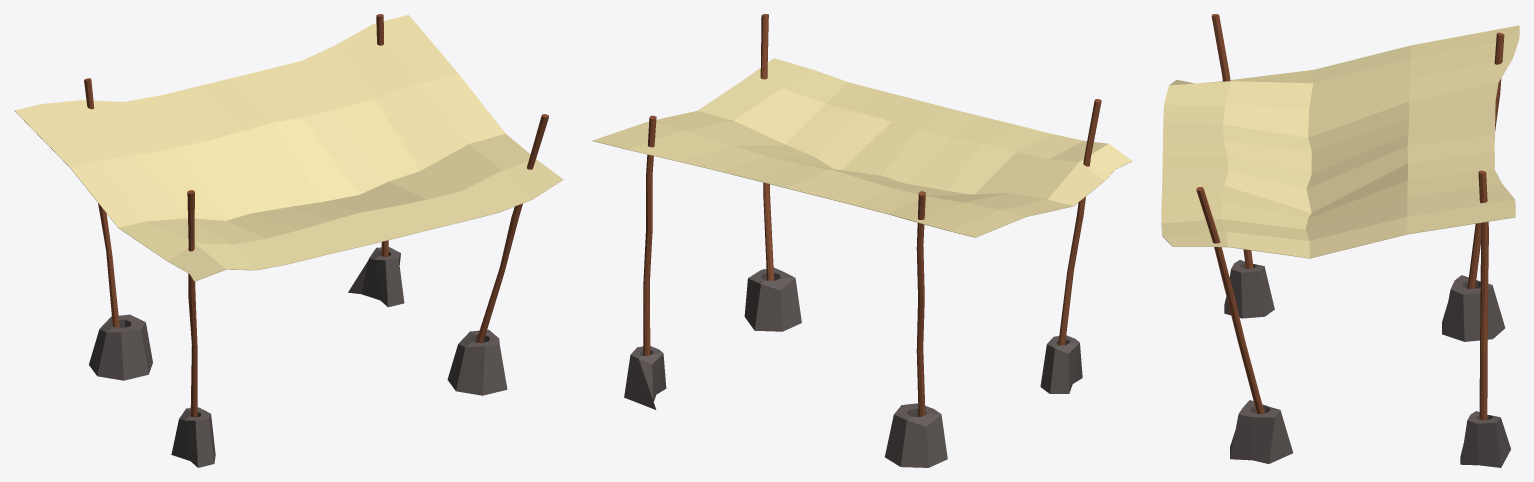
Rendered from Shelter 2.001.fbx.
3 views of the same model, side by side, from view 1: azimuth 30°, elevation 25°; view 2: azimuth 150°, elevation 25°; view 3: azimuth 270°, elevation 25° (orthographic). The views are drawn at different scales.
Visible parts, largest first — view 1: Shelter 2.001; view 2: Shelter 2.001; view 3: Shelter 2.001.
Part boxes in pixels (bbox=[...]): Shelter 2.001: bbox=[14, 14, 563, 467]; Shelter 2.001: bbox=[592, 14, 1132, 467]; Shelter 2.001: bbox=[1161, 14, 1519, 467].
Size of the model in its own units: 454 by 314 by 356.
